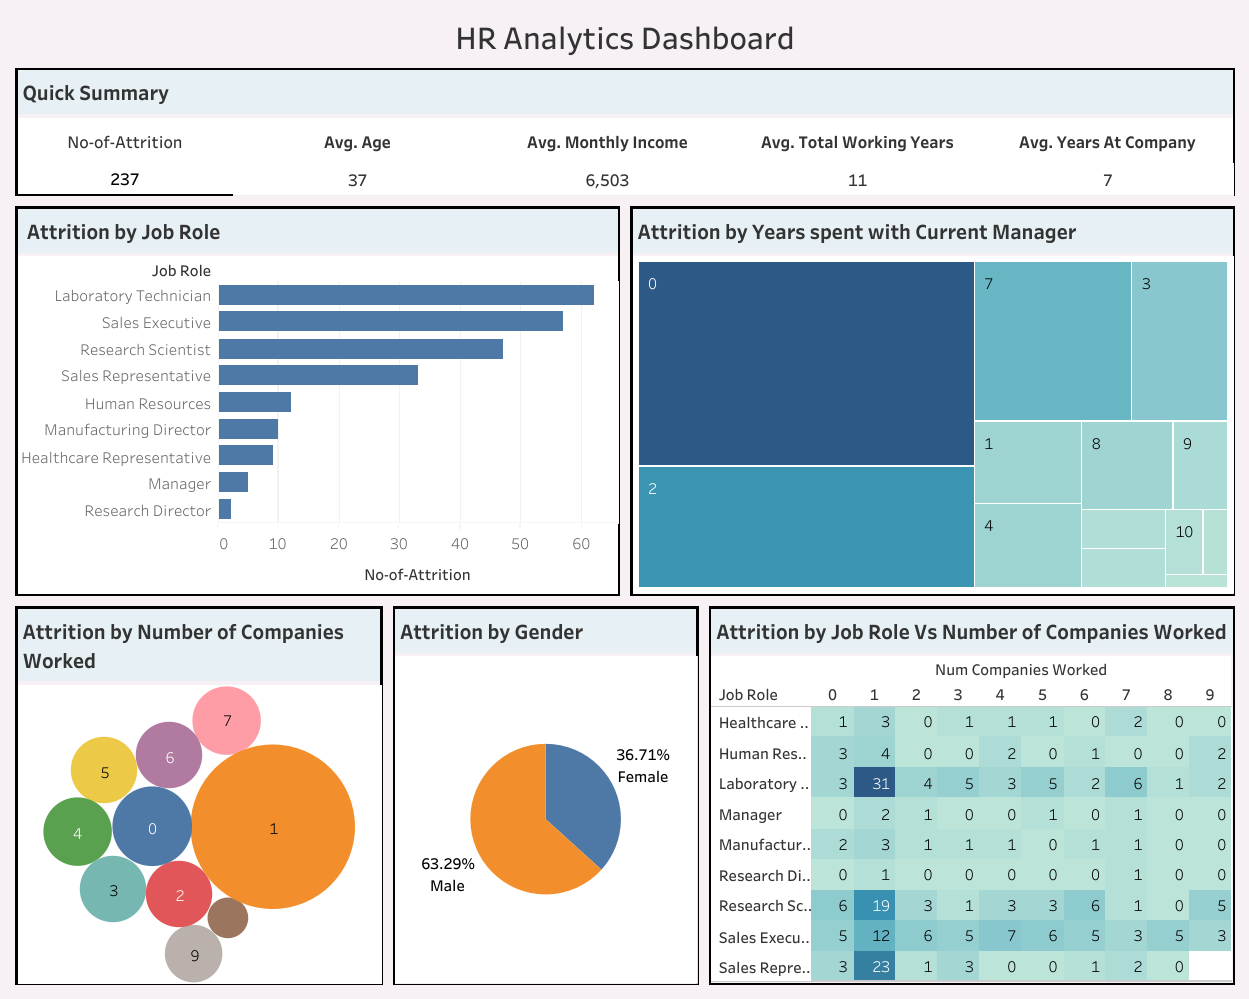

The dashboard page shown, as its layout file describes it:
{"tool":"tableau","page":{"name":"Dashboard 1","canvas":[1000,800],"ordinal":0},"visuals":[{"type":"title","box":[8,8,984,49]},{"type":"worksheet","title":"Quick Summary","mark":"Automatic","rows":["Calculation_1127307339414147072"],"box":[8,57,984,109.7]},{"type":"worksheet","title":"Attrition by Job Role","mark":"Automatic","rows":["JobRole"],"cols":["Calculation_1127307339414147072"],"box":[8,166.7,492,316.9]},{"type":"worksheet","title":"Attrition by years spent with current manager","mark":"Automatic","box":[500,166.7,492,316.9]},{"type":"worksheet","title":"Attrition by numbe rof companies worked","mark":"Circle","box":[8,483.6,302.1,308.4]},{"type":"worksheet","title":"Attrition by Gender","mark":"Pie","box":[310.1,483.6,252.5,308.4]},{"type":"worksheet","title":"Attrition by job role vs number of companies worked","mark":"Square","rows":["JobRole"],"cols":["NumCompaniesWorked"],"box":[562.6,483.6,429.4,308.4]}]}

Visuals, with their boxes in screenshot pixels (x1, y1, x2, y2), scaled from the page's 1000x800 canvas onto the 1249x999 screenshot:
title: {"x1": 10, "y1": 10, "x2": 1239, "y2": 71}
"Quick Summary" worksheet: {"x1": 10, "y1": 71, "x2": 1239, "y2": 208}
"Attrition by Job Role" worksheet: {"x1": 10, "y1": 208, "x2": 624, "y2": 604}
"Attrition by years spent with current manager" worksheet: {"x1": 624, "y1": 208, "x2": 1239, "y2": 604}
"Attrition by numbe rof companies worked" worksheet (Circle marks): {"x1": 10, "y1": 604, "x2": 387, "y2": 989}
"Attrition by Gender" worksheet (Pie marks): {"x1": 387, "y1": 604, "x2": 703, "y2": 989}
"Attrition by job role vs number of companies worked" worksheet (Square marks): {"x1": 703, "y1": 604, "x2": 1239, "y2": 989}
